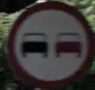No overtake: (8, 1, 87, 79)
